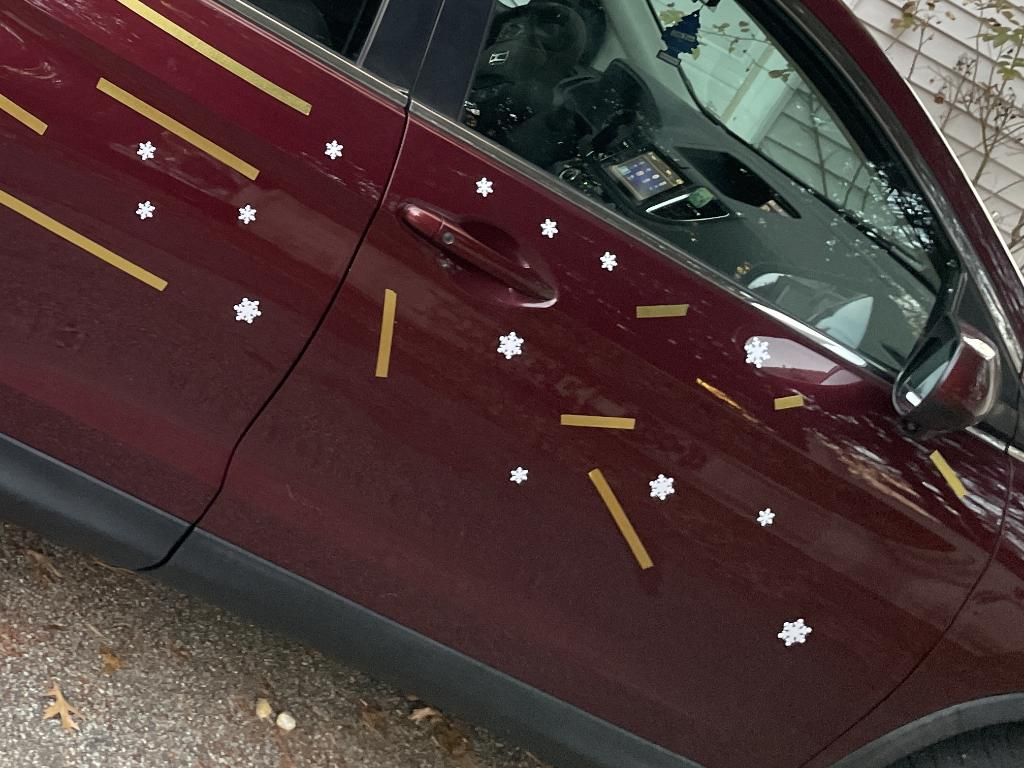dent: (772, 613, 816, 653), (739, 334, 775, 374), (495, 329, 529, 363), (230, 294, 264, 326), (644, 473, 680, 503), (136, 138, 160, 164), (235, 203, 261, 227), (322, 138, 348, 162), (597, 248, 621, 274), (508, 462, 532, 488), (472, 176, 496, 200), (133, 198, 155, 224), (755, 506, 777, 530), (538, 216, 560, 238), (0, 12, 1, 38)
scratch: (71, 0, 316, 122), (0, 169, 173, 300), (91, 74, 261, 182), (582, 464, 656, 576), (0, 41, 52, 141), (557, 404, 643, 438), (374, 288, 402, 378), (634, 298, 694, 324)
